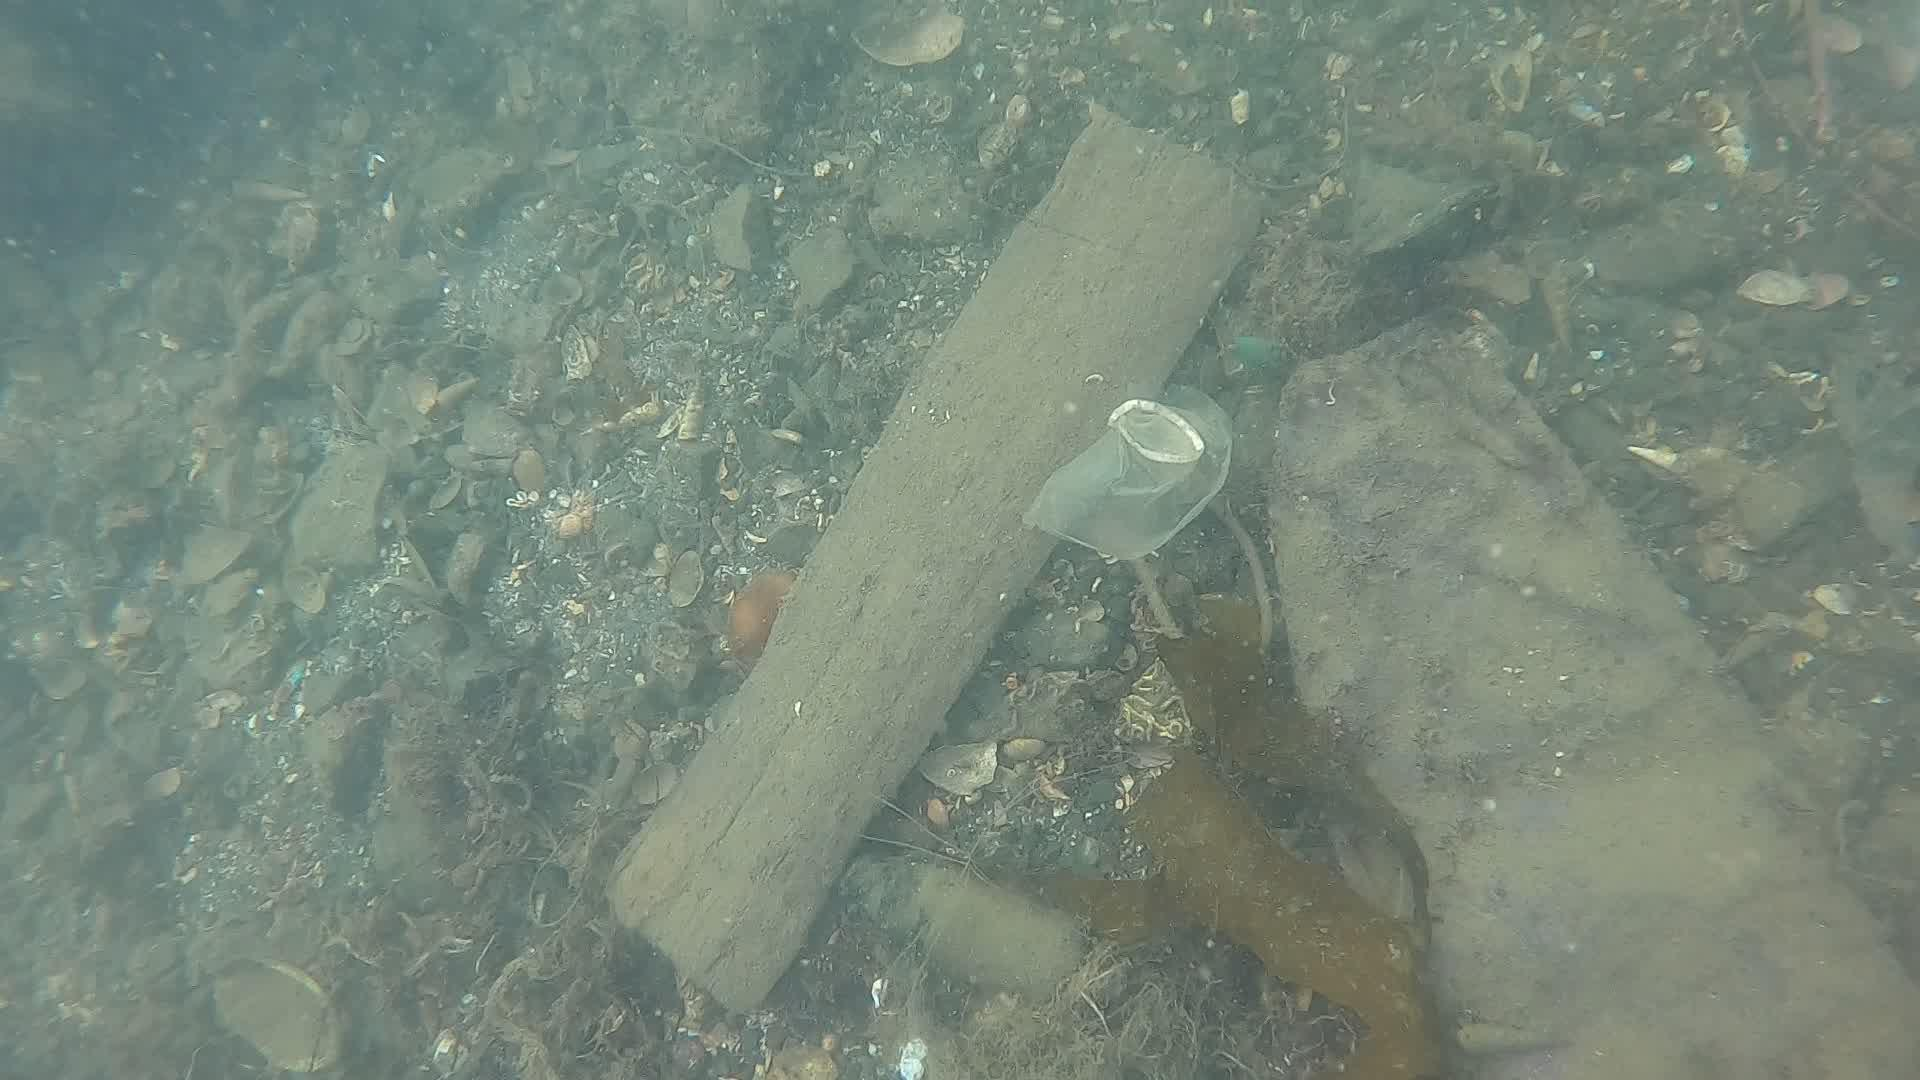wood: (600, 102, 1273, 1017)
